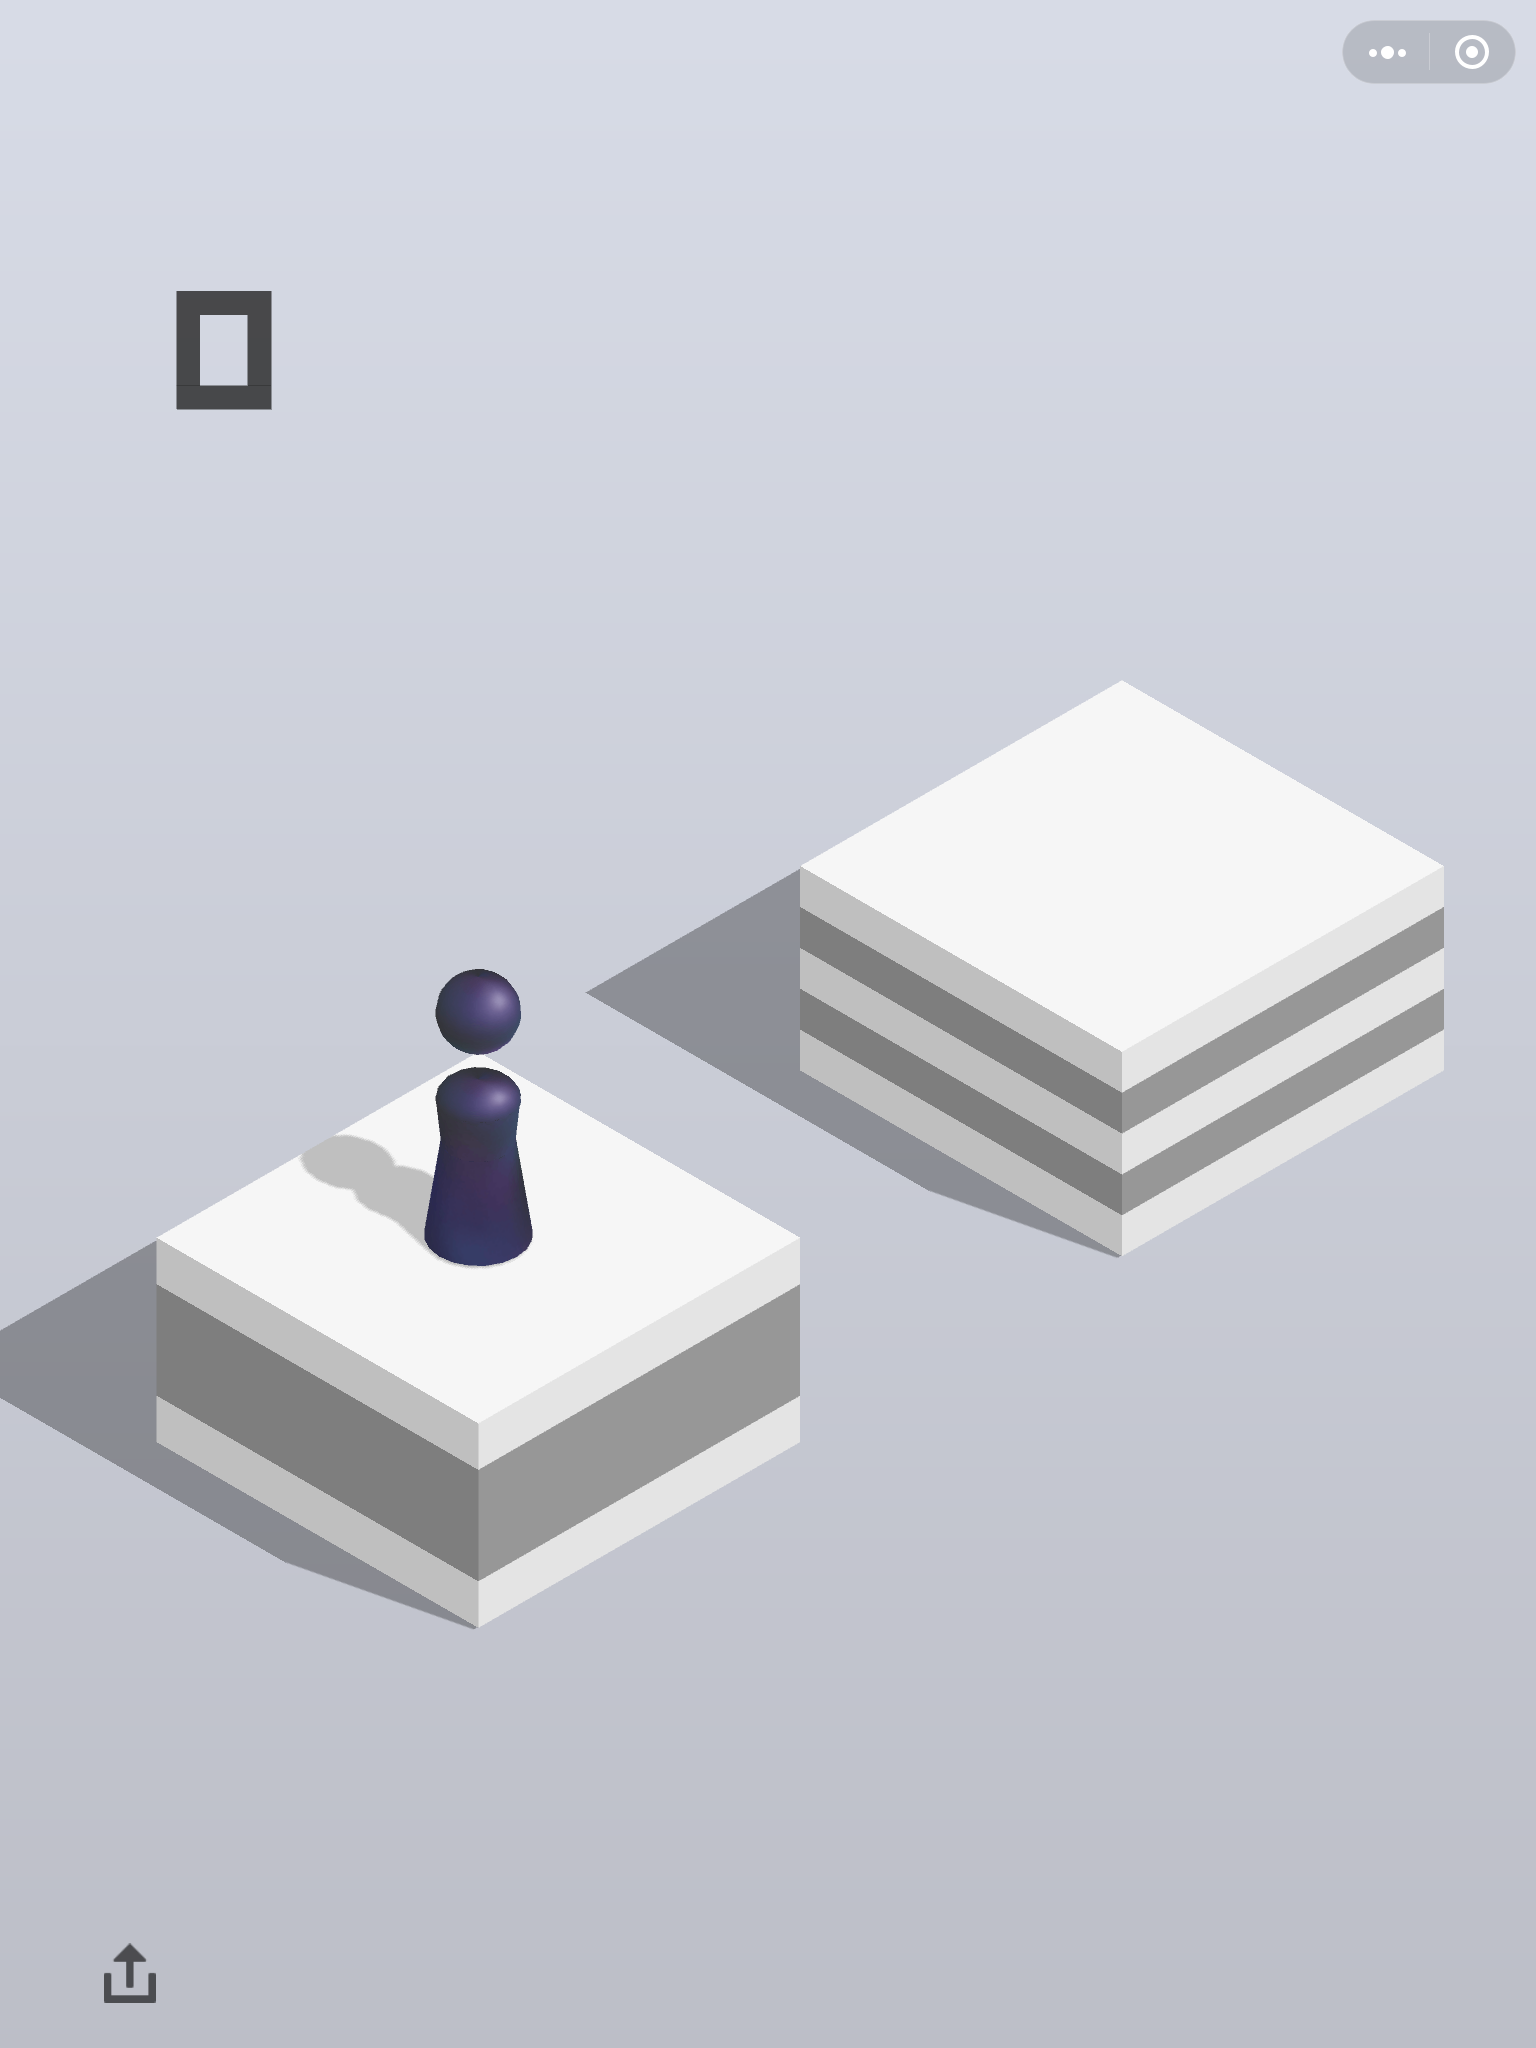f: (791, 672, 1454, 1264), (144, 1048, 812, 1634)
r: (419, 963, 537, 1271)
